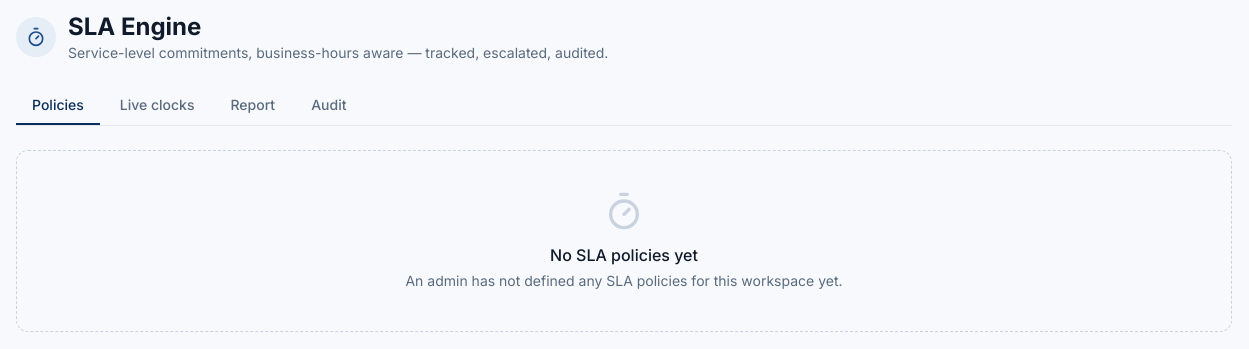
Test case: SlaView › loads live clocks when the Live clocks tab is selected
Expected: the text "No SLA policies yet" is shown, [550, 245, 698, 265]
Click the tab "Live clocks" at (157, 106), box [104, 87, 210, 125]
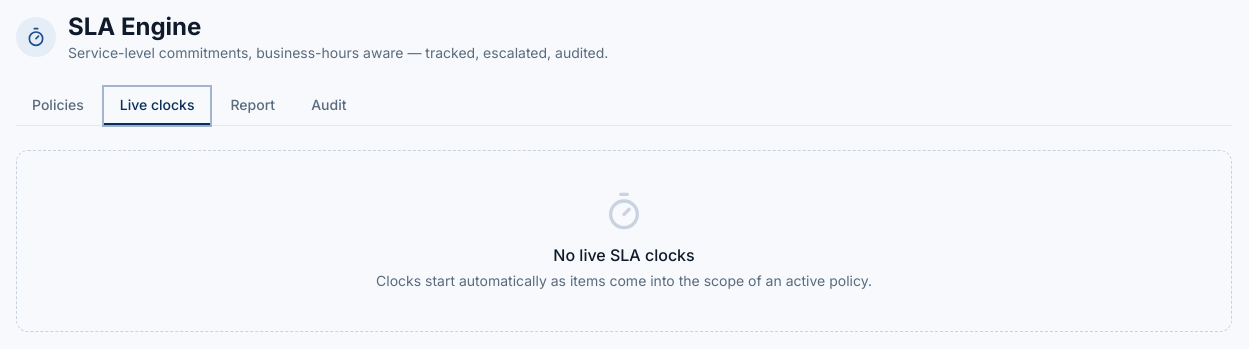
Expected: the text "No live SLA clocks" is shown, [553, 245, 695, 265]
